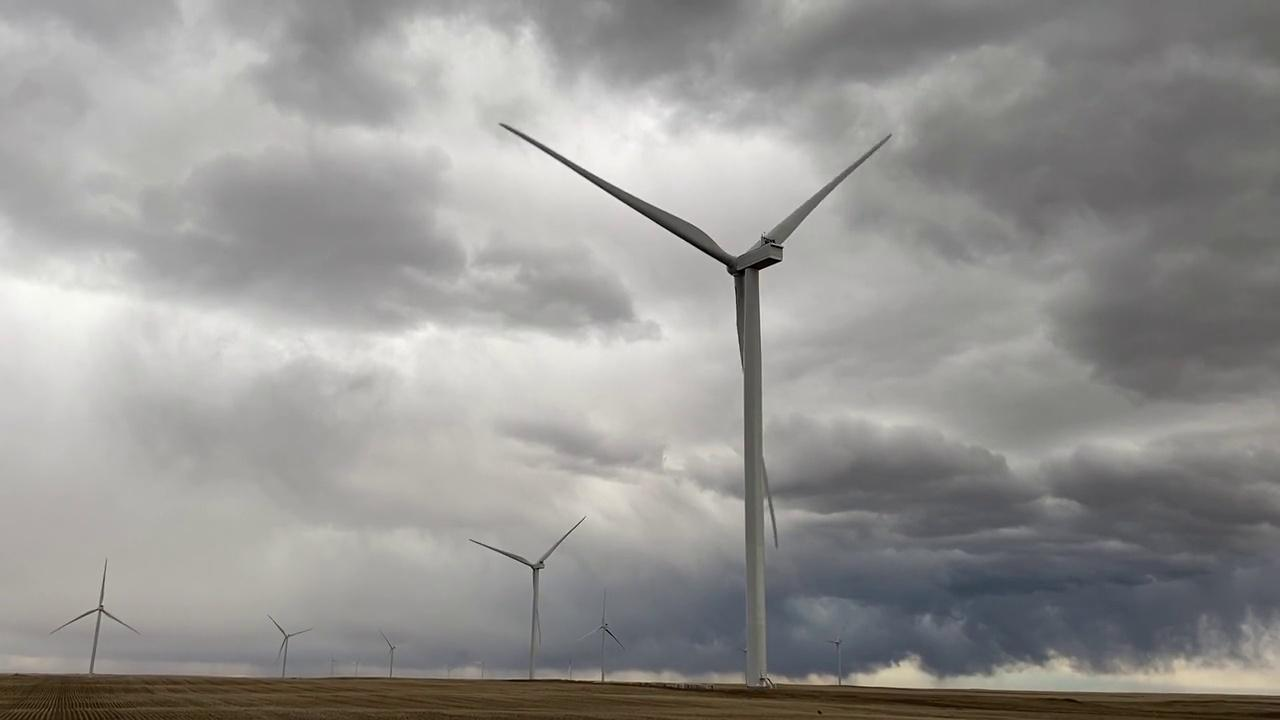turbine: (494, 116, 870, 693), (461, 512, 586, 689), (44, 561, 142, 675), (581, 592, 626, 687), (259, 610, 314, 677), (814, 611, 861, 689), (373, 625, 415, 680), (461, 654, 501, 687), (317, 650, 346, 679), (436, 656, 461, 687), (345, 653, 369, 677), (561, 654, 581, 682)
